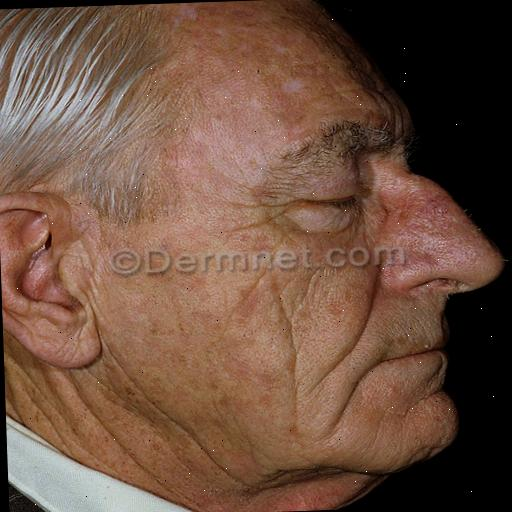Skin_Lesion: (116, 283, 164, 323), (276, 74, 312, 100), (420, 191, 448, 220), (270, 38, 298, 62), (205, 21, 230, 45), (174, 2, 202, 22)
